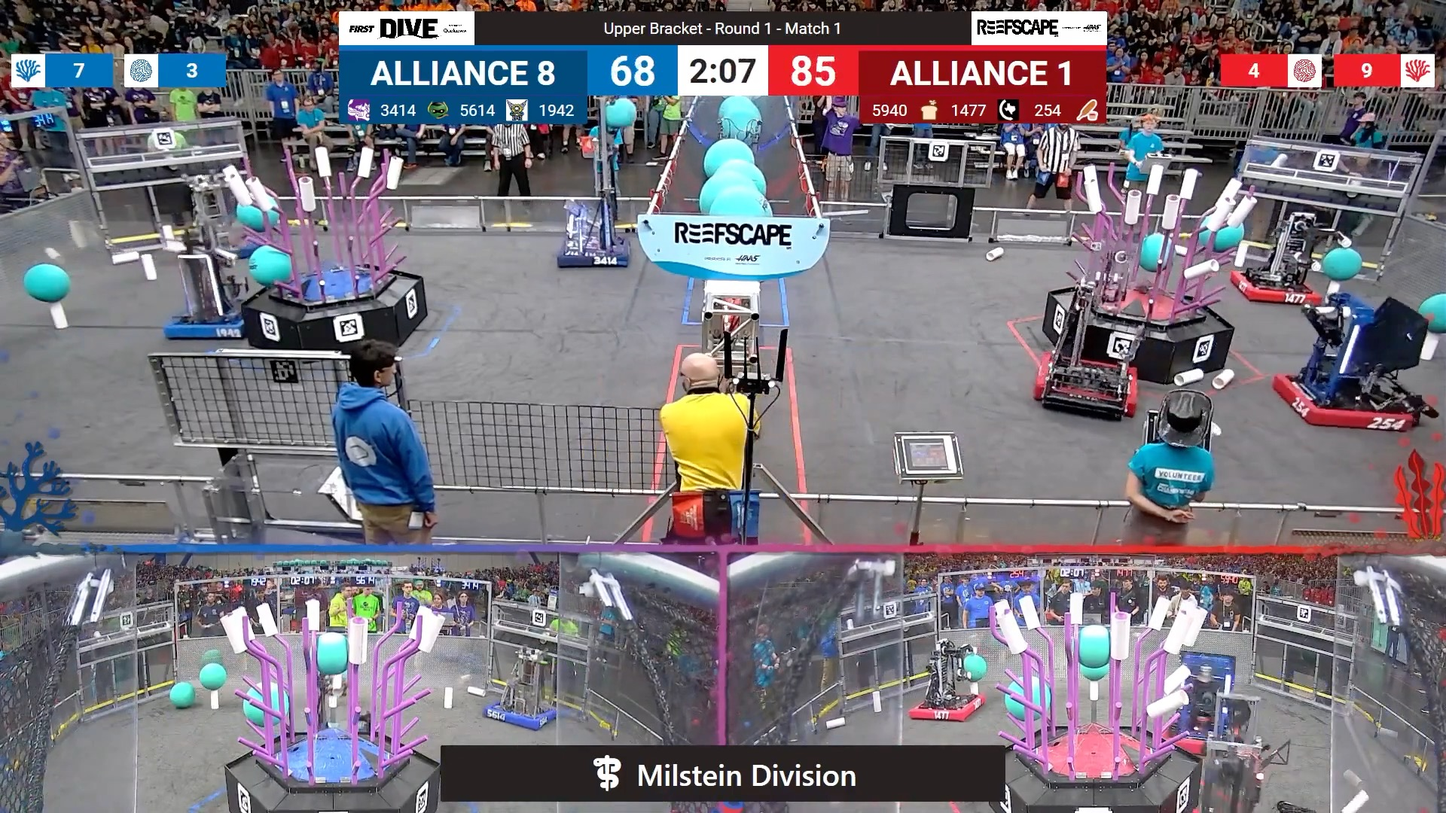bumpers: (1268, 371, 1420, 435), (1027, 347, 1146, 419), (1164, 710, 1277, 761), (164, 297, 264, 345), (1224, 267, 1329, 307), (467, 695, 563, 732), (900, 691, 990, 730), (546, 237, 627, 268), (201, 243, 273, 258)
